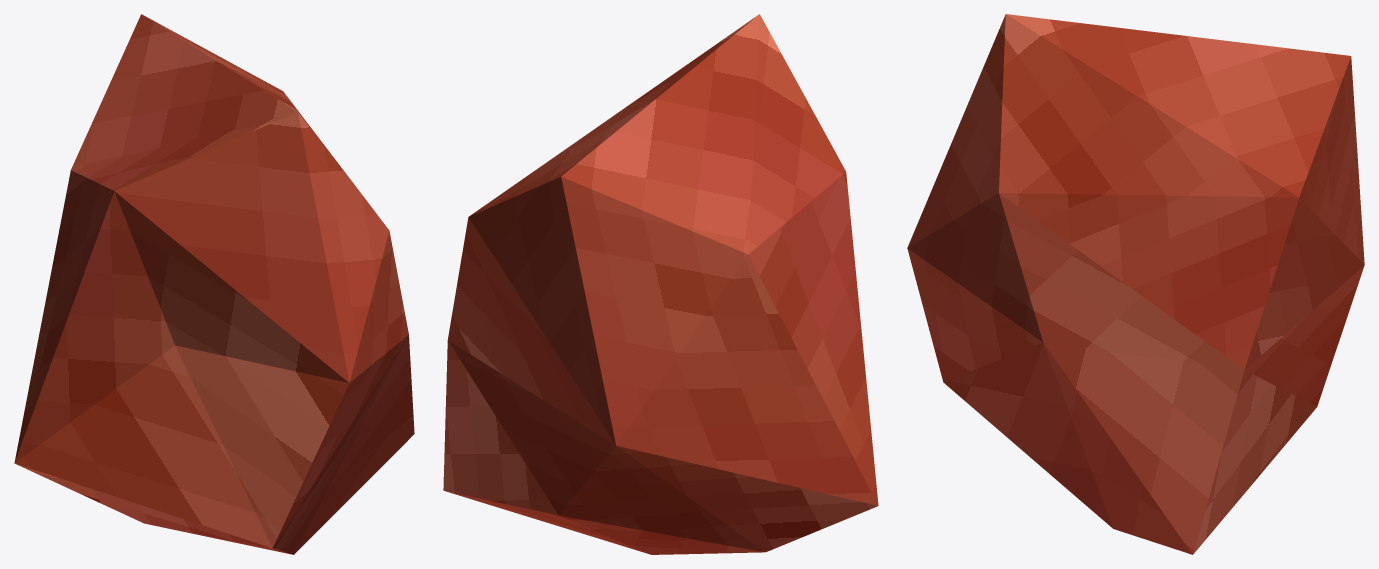
File: fleshgib.glb
The picture shows the model from 3 angles, left to right: view 1: azimuth 30°, elevation 25°; view 2: azimuth 150°, elevation 25°; view 3: azimuth 270°, elevation 25°; orthographic projection. The views are drawn at different scales.
Parts seen in each view (by area): view 1: Cube; view 2: Cube; view 3: Cube.
Part boxes in pixels (box(x1,y1,x2,y2)): Cube: box(14, 14, 414, 554); Cube: box(443, 14, 878, 554); Cube: box(907, 14, 1364, 554).
Size of the model in its own units: 2.19 by 2.53 by 2.13.
Materials: 1 (1 with a texture image).
